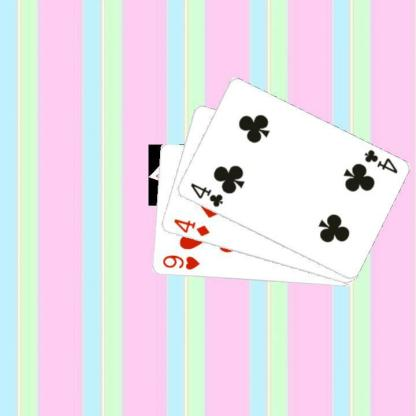4C: (361, 147, 399, 175), (188, 181, 224, 208)
4D: (170, 217, 210, 238)
9H: (160, 252, 200, 272)
